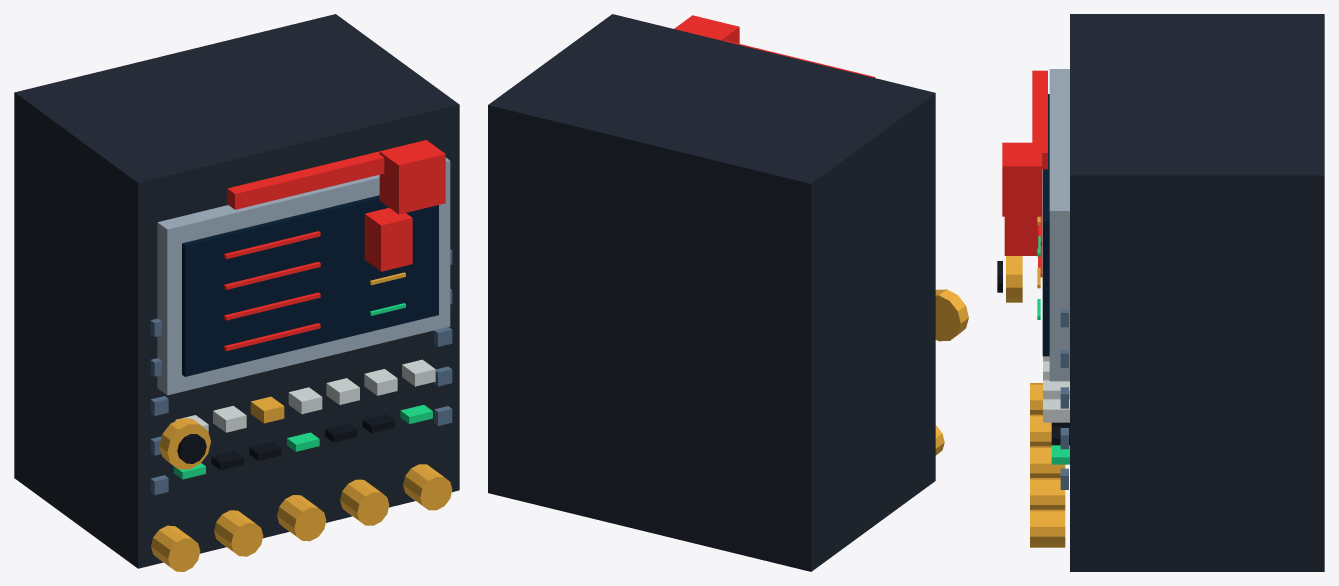
Rendered from 66_L86_AsymmetricGripperFaultInjector.fbx.
3 renders of one model, left to right at view 1: azimuth 30°, elevation 25°; view 2: azimuth 150°, elevation 25°; view 3: azimuth 270°, elevation 25°, orthographic. The views are drawn at different scales.
Parts seen in each view (by area): view 1: L86_AsymmetricGripperFaultInjector, L86_AsymmetricGripperFaultInjector_Part_0009, L86_AsymmetricGripperFaultInjector_Part_0010, L86_AsymmetricGripperFaultInjector_Part_0011; view 2: L86_AsymmetricGripperFaultInjector, L86_AsymmetricGripperFaultInjector_Part_0010, L86_AsymmetricGripperFaultInjector_Part_0009; view 3: L86_AsymmetricGripperFaultInjector, L86_AsymmetricGripperFaultInjector_Part_0009, L86_AsymmetricGripperFaultInjector_Part_0010.
Part boxes in pixels (x1=…): L86_AsymmetricGripperFaultInjector: x1=14, y1=14, x2=459, y2=571; L86_AsymmetricGripperFaultInjector_Part_0009: x1=379, y1=140, x2=445, y2=214; L86_AsymmetricGripperFaultInjector_Part_0010: x1=159, y1=418, x2=210, y2=469; L86_AsymmetricGripperFaultInjector_Part_0011: x1=177, y1=434, x2=206, y2=463; L86_AsymmetricGripperFaultInjector: x1=488, y1=14, x2=944, y2=571; L86_AsymmetricGripperFaultInjector_Part_0010: x1=935, y1=289, x2=968, y2=341; L86_AsymmetricGripperFaultInjector_Part_0009: x1=674, y1=15, x2=739, y2=43; L86_AsymmetricGripperFaultInjector: x1=1004, y1=14, x2=1324, y2=571; L86_AsymmetricGripperFaultInjector_Part_0009: x1=1002, y1=142, x2=1041, y2=216; L86_AsymmetricGripperFaultInjector_Part_0010: x1=1006, y1=256, x2=1022, y2=302.
Bounding box in the file's own units: 96.44 × 110 × 82.16.
